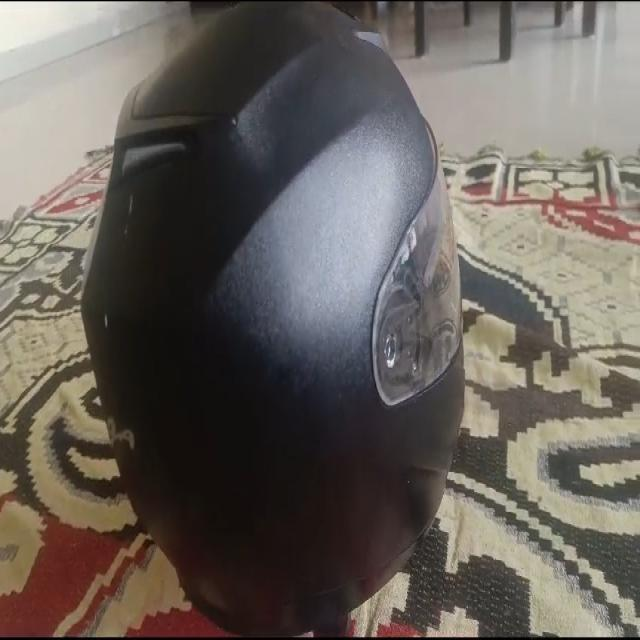Helmet: (80, 5, 466, 637)
